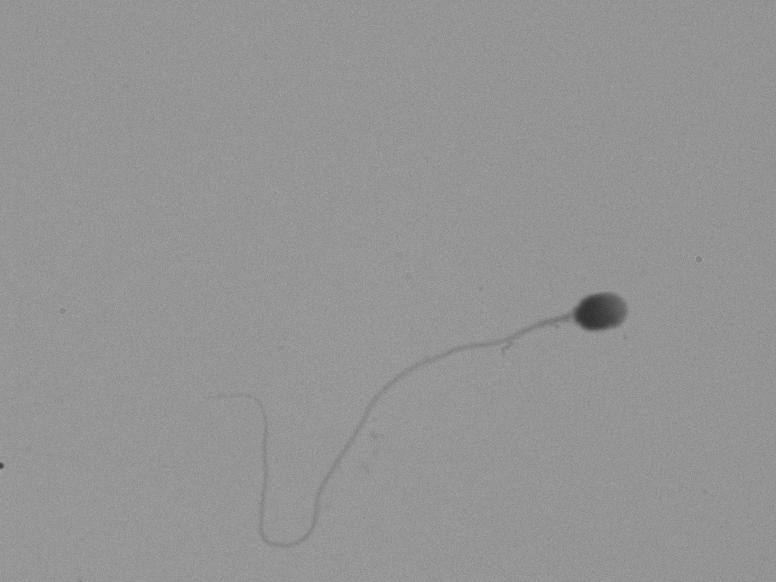Normal: (211, 191, 653, 550)
